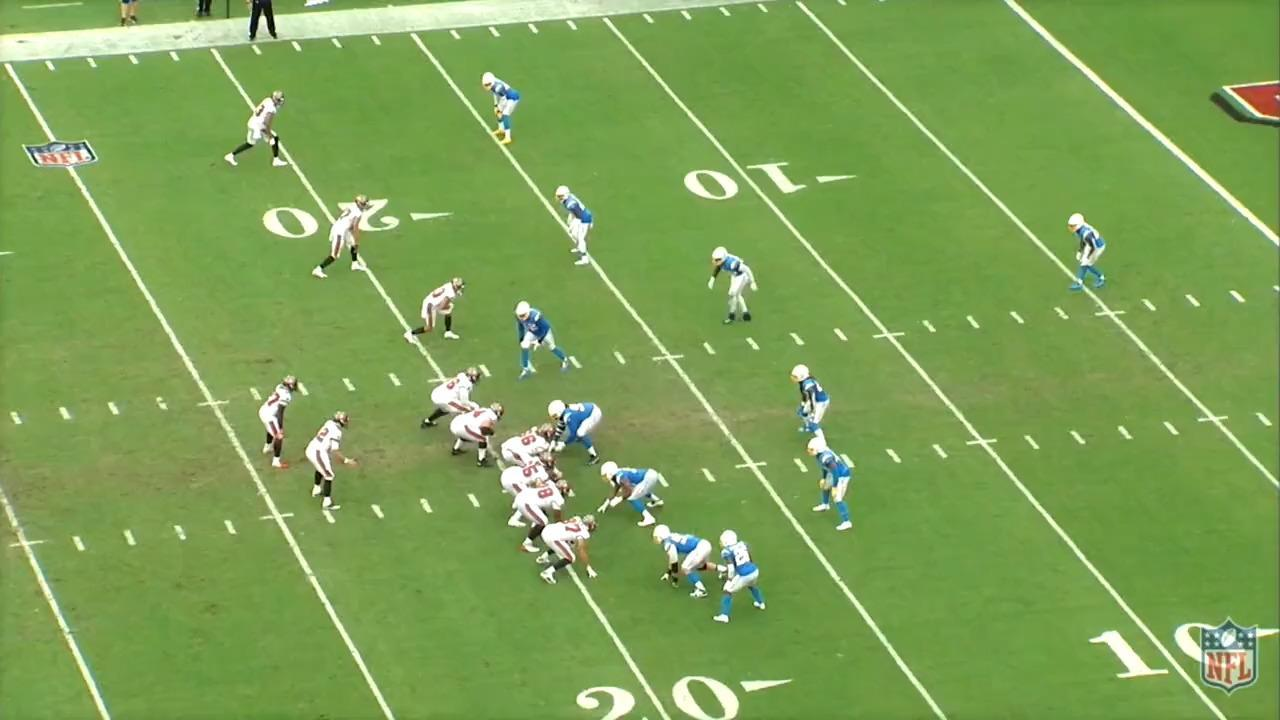defense: (511, 297, 584, 383), (654, 523, 727, 600), (710, 528, 766, 626), (807, 438, 858, 536), (602, 459, 672, 528), (548, 183, 599, 274), (707, 244, 759, 330), (475, 67, 526, 152), (543, 396, 605, 463), (1064, 211, 1108, 296), (794, 363, 836, 452)
oline: (514, 477, 576, 556), (420, 366, 484, 433), (502, 457, 557, 530), (502, 423, 565, 485), (450, 403, 507, 470)
qb: (303, 410, 355, 515)
ref: (244, 0, 285, 44)
skill: (219, 85, 292, 174), (307, 187, 371, 283), (398, 273, 468, 351), (533, 514, 602, 590), (260, 370, 302, 470)
